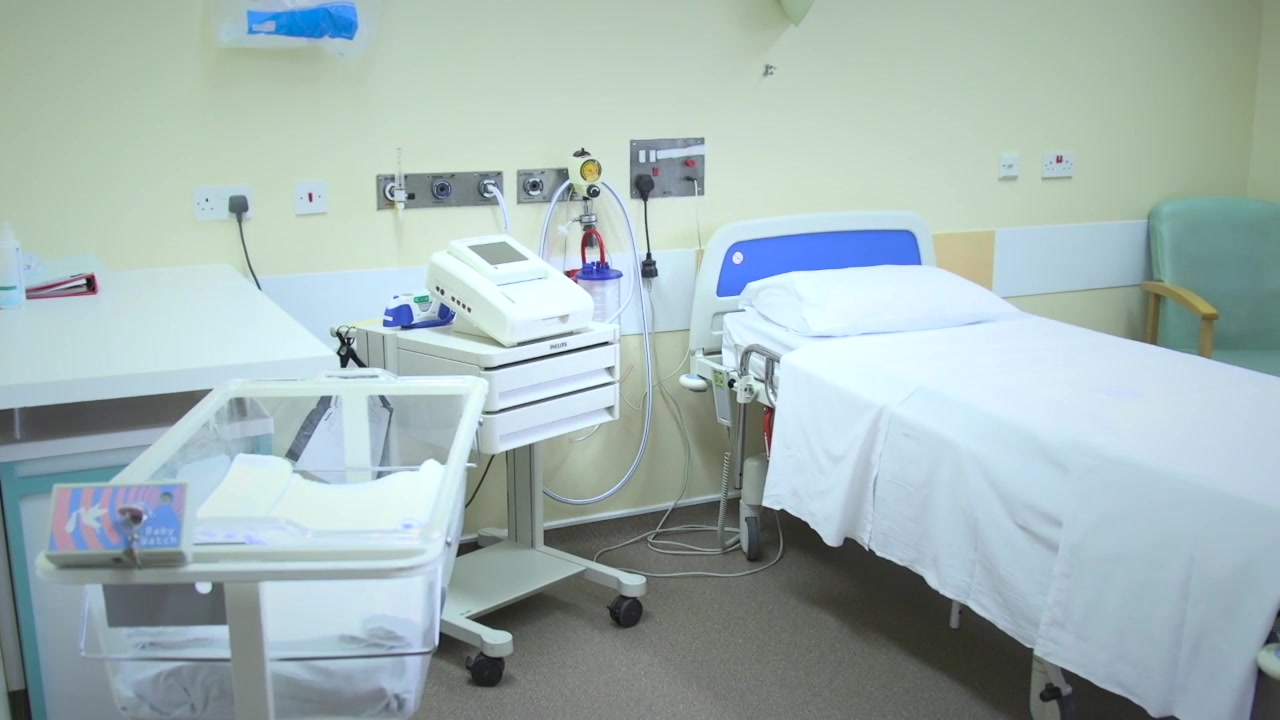bedrail: (737, 344, 786, 405)
chair: (1143, 196, 1280, 377)
countertop: (1, 264, 340, 418)
hospital_bed: (679, 211, 1280, 720)
